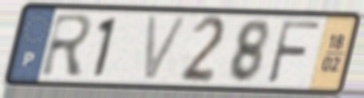1: (92, 15, 122, 78)
2: (177, 14, 228, 86)
8: (226, 17, 272, 86)
F: (264, 18, 324, 87)
R: (38, 12, 97, 79)
V: (141, 13, 192, 84)
